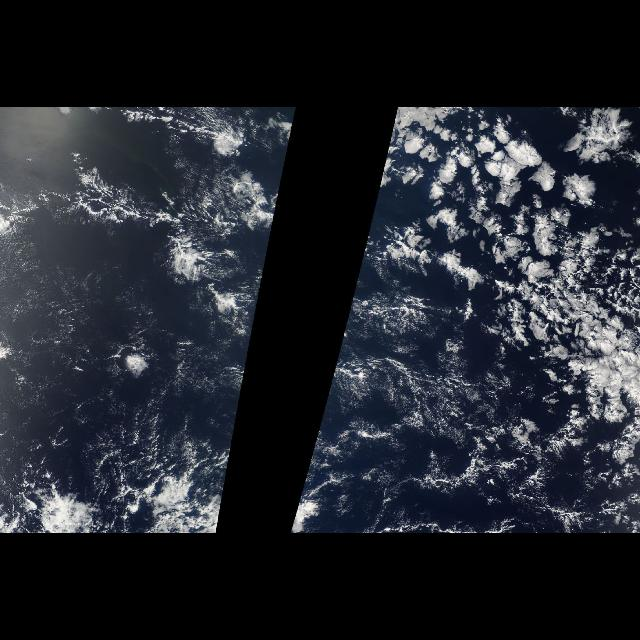Flower: (380, 109, 632, 395)
Gravel: (298, 192, 640, 532)
Sugar: (1, 230, 253, 466), (313, 328, 493, 447)
